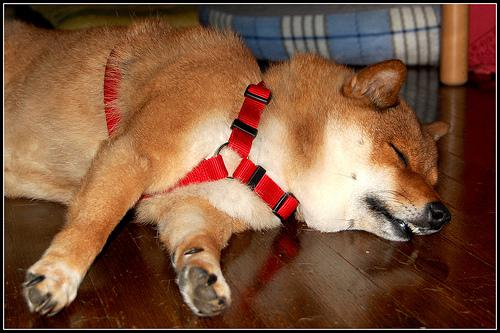dog-shiba_inu: (299, 58, 449, 240)
